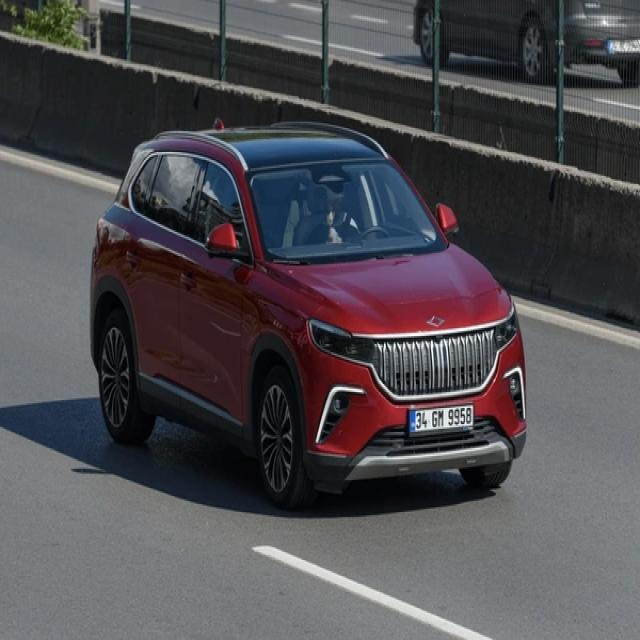togg: (426, 311, 444, 331)
